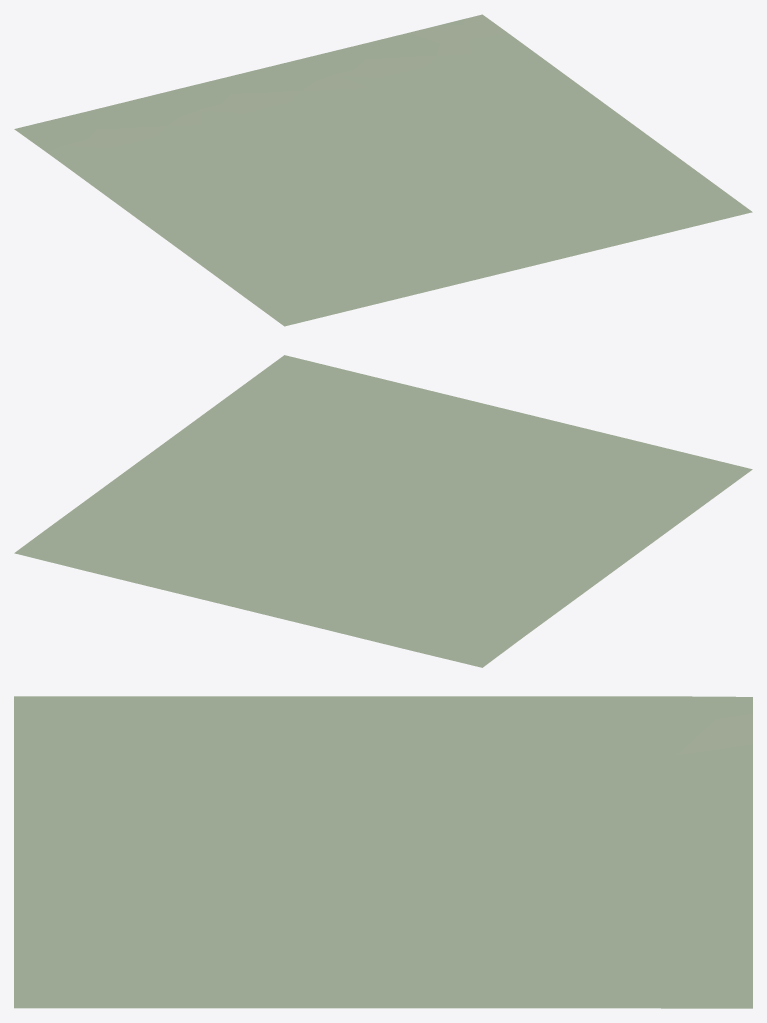
Rendered from SM_MPRR_Terrain_0_0.fbx.
3 views of the same model, one above another, from view 1: azimuth 30°, elevation 25°; view 2: azimuth 150°, elevation 25°; view 3: azimuth 270°, elevation 25° (orthographic). The views are drawn at different scales.
Visible parts, largest first — view 1: SM_MPRR_Terrain_0_0; view 2: SM_MPRR_Terrain_0_0; view 3: SM_MPRR_Terrain_0_0.
Part boxes in pixels (x1,y1,x2,y2): SM_MPRR_Terrain_0_0: [14, 14, 752, 326]; SM_MPRR_Terrain_0_0: [14, 355, 752, 667]; SM_MPRR_Terrain_0_0: [14, 696, 752, 1008].
Size of the model in its own units: 15000 by 15000 by 23.42.
